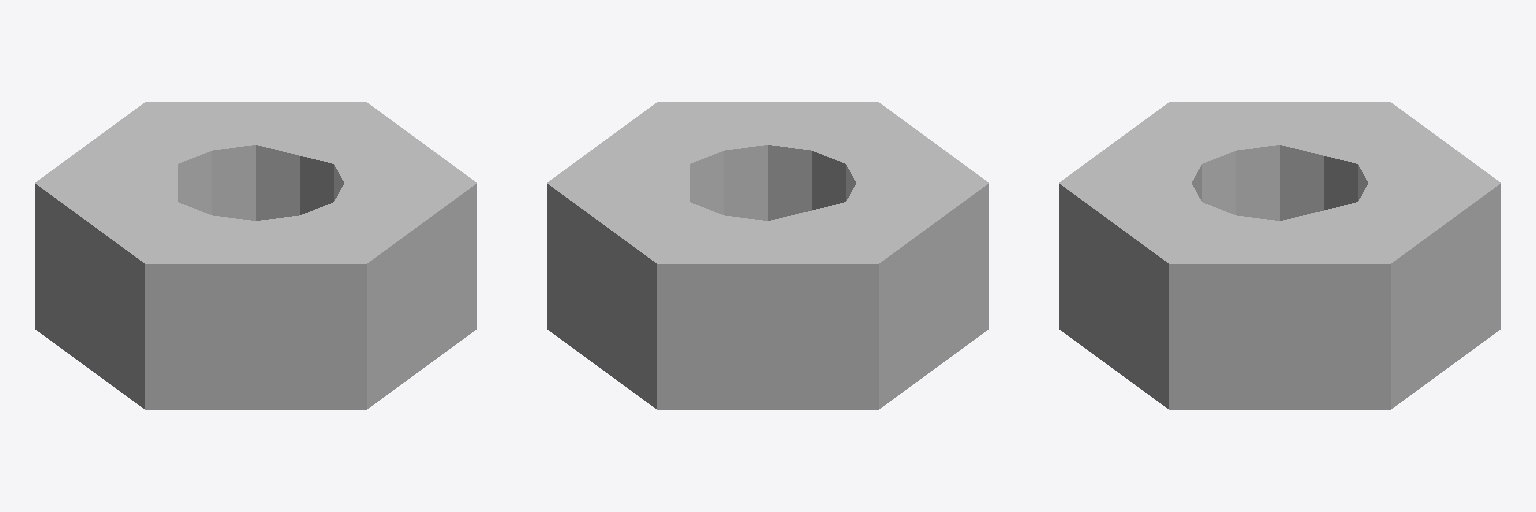
File: hexagon_nut_mx_2.obj
3 renders of one model, left to right at view 1: azimuth 30°, elevation 25°; view 2: azimuth 150°, elevation 25°; view 3: azimuth 270°, elevation 25°, orthographic.
Parts seen in each view (by area): view 1: hexagon_nut_mx_2; view 2: hexagon_nut_mx_2; view 3: hexagon_nut_mx_2.
Boxes of the visible parts, x1=… form: hexagon_nut_mx_2: x1=35, y1=102, x2=476, y2=409; hexagon_nut_mx_2: x1=547, y1=102, x2=988, y2=409; hexagon_nut_mx_2: x1=1059, y1=102, x2=1500, y2=409.
Bounding box in the file's own units: 0.0953 × 0.04 × 0.11.